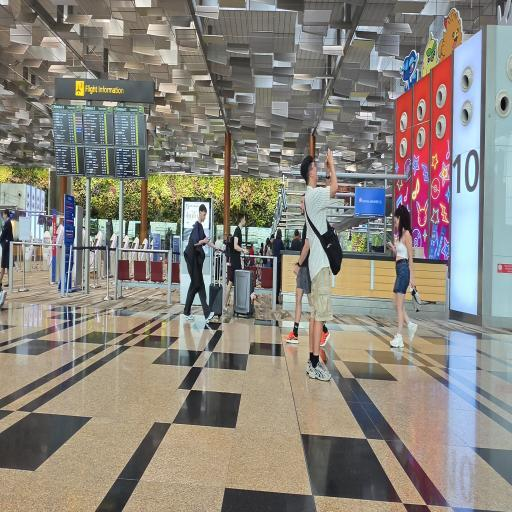person_left: (384, 197, 424, 353), (286, 194, 316, 342), (0, 198, 19, 286)
person_right: (298, 144, 340, 385)
person_with_luggage_right: (180, 190, 220, 324), (220, 201, 256, 315)
